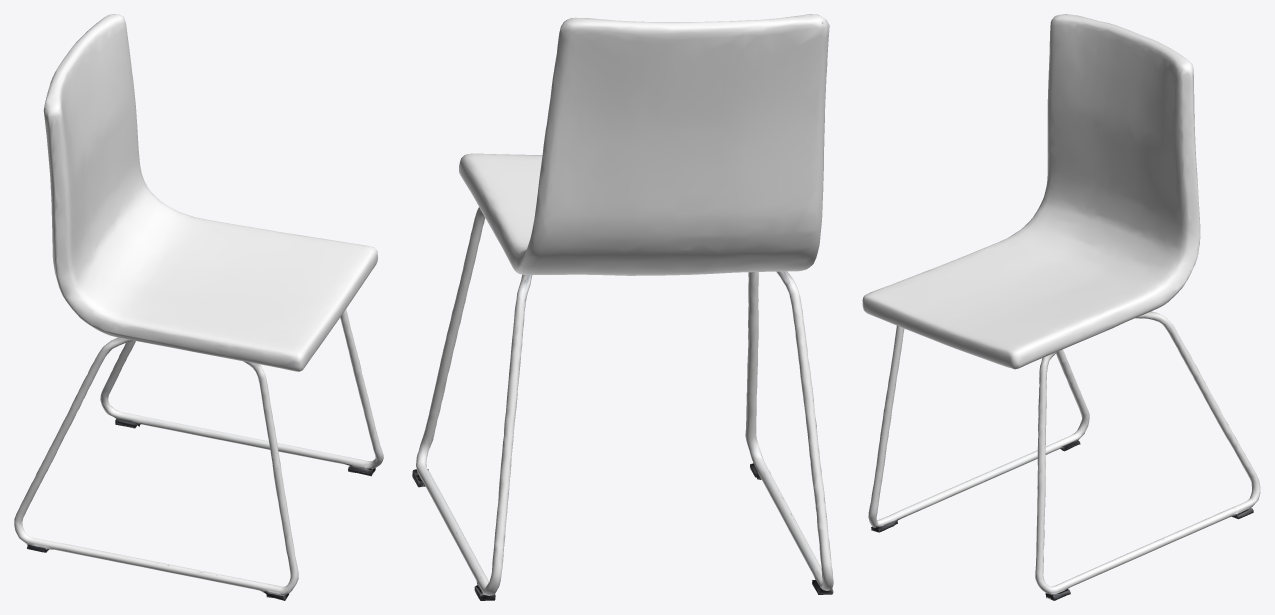
The picture shows the model from 3 angles, left to right: view 1: azimuth 30°, elevation 25°; view 2: azimuth 150°, elevation 25°; view 3: azimuth 270°, elevation 25°; orthographic projection. The views are drawn at different scales.
Visible parts, largest first — view 1: node_id5; view 2: node_id5; view 3: node_id5.
Part boxes in pixels (box(x1,y1,x2,y2)): node_id5: box(14, 14, 383, 600); node_id5: box(412, 14, 833, 600); node_id5: box(862, 14, 1260, 600).
Bounding box in the file's own units: 0.3578 × 0.4661 × 0.3632.
Materials: 1 (1 with a texture image).
